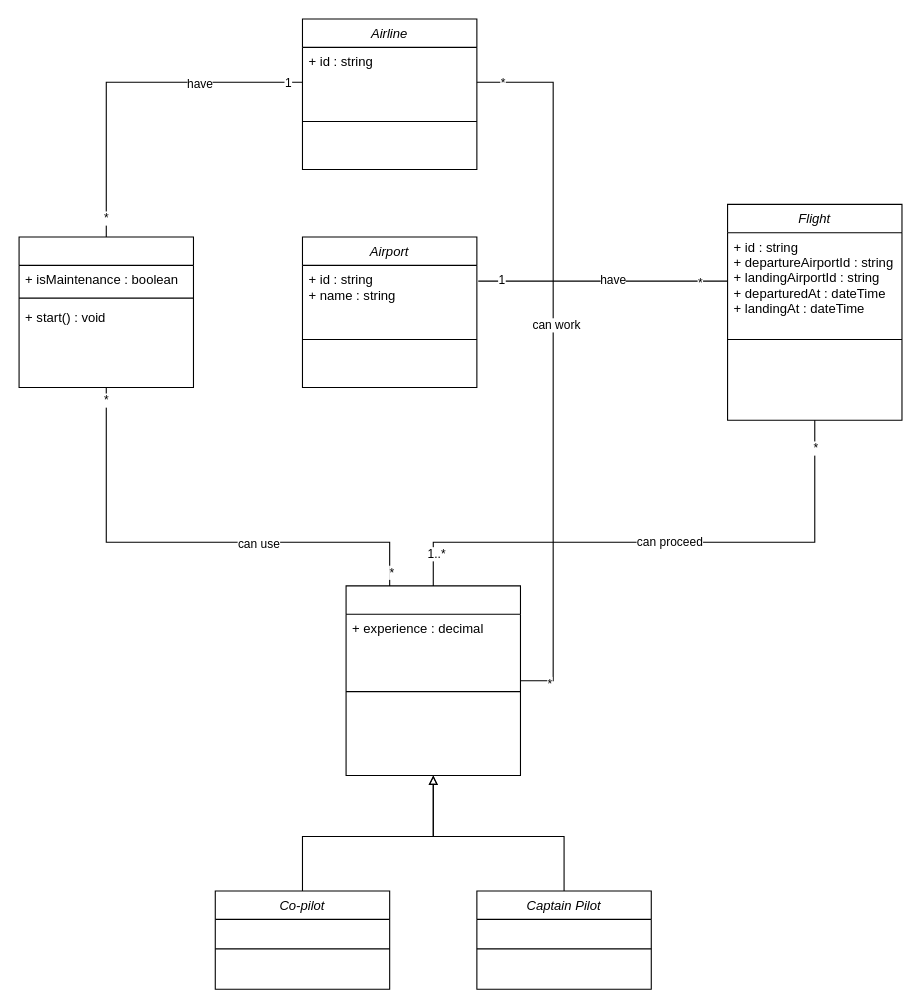
The diagram is 921 pixels wide and 1008 high, and some of its shapes have lost their labels. The shapes that lost their labels are listed below. From the top down, each one's box as (x1, y1, x2, y2) in pixels, then its label:
(18, 236, 193, 387): Aircraft
(345, 585, 520, 776): Pilot
